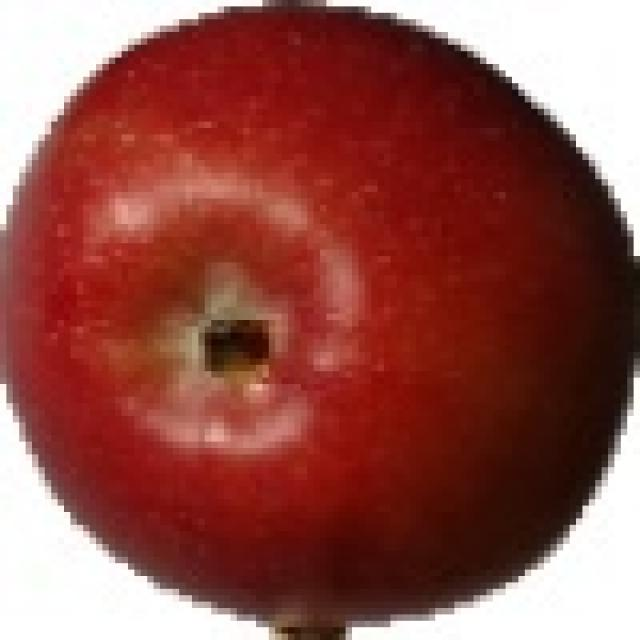apple: (6, 19, 640, 614)
